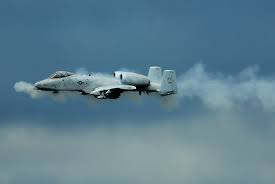plane: (33, 66, 176, 99)
